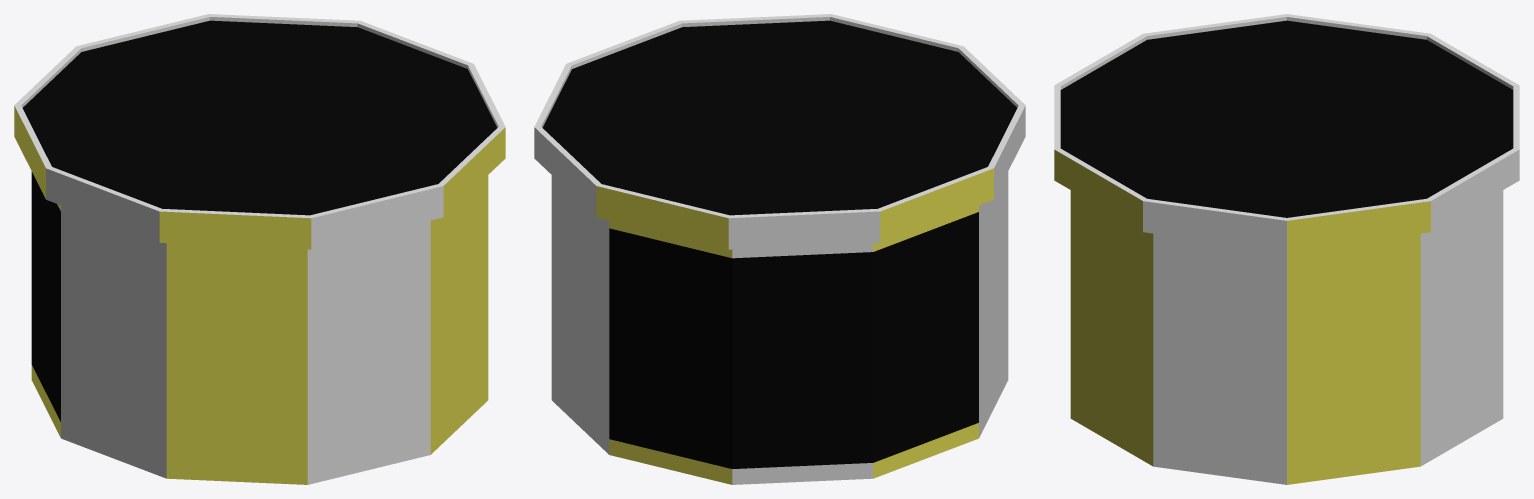
File: IceCupLarge.fbx
3 renders of one model, left to right at view 1: azimuth 30°, elevation 25°; view 2: azimuth 150°, elevation 25°; view 3: azimuth 270°, elevation 25°, orthographic.
Parts seen in each view (by area): view 1: IceCupLarge; view 2: IceCupLarge; view 3: IceCupLarge.
Boxes of the visible parts, x1,y1,x2,y2 form: IceCupLarge: [14, 14, 505, 484]; IceCupLarge: [534, 14, 1025, 484]; IceCupLarge: [1054, 14, 1519, 484].
Bounding box in the file's own units: 17.45 × 10.67 × 16.59.
